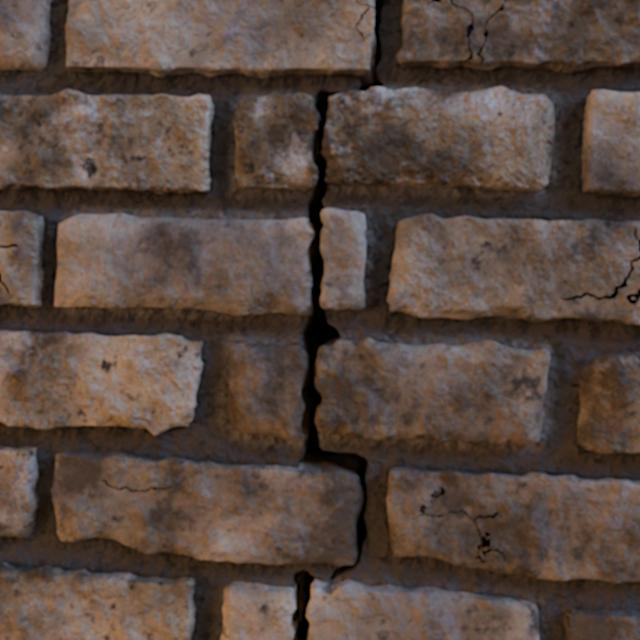broken_brick: (54, 213, 312, 315), (315, 337, 549, 445), (322, 86, 554, 190), (306, 580, 539, 639), (234, 92, 319, 190), (227, 343, 304, 441), (320, 208, 366, 310), (220, 581, 294, 639)
crack: (51, 90, 368, 639), (386, 467, 639, 583), (65, 0, 385, 91), (386, 214, 639, 324), (0, 89, 213, 194), (0, 330, 202, 435), (396, 0, 639, 72), (0, 562, 195, 639), (577, 352, 639, 454), (581, 89, 639, 197), (0, 211, 43, 307), (0, 0, 51, 70), (0, 446, 38, 537), (564, 607, 639, 639), (131, 306, 170, 308), (175, 308, 200, 309), (445, 183, 459, 184), (432, 180, 445, 181)
